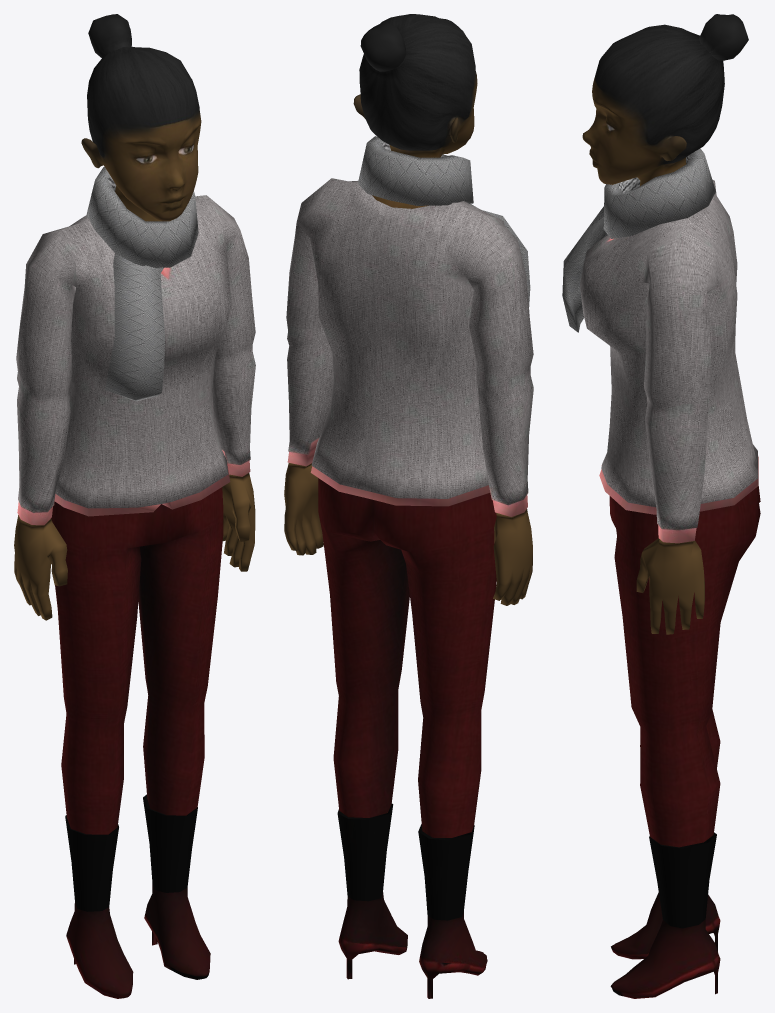
The model's file is NPC8.glb.
The picture shows the model from 3 angles, left to right: view 1: azimuth 30°, elevation 25°; view 2: azimuth 150°, elevation 25°; view 3: azimuth 270°, elevation 25°; orthographic projection. The views are drawn at different scales.
Visible parts, largest first — view 1: F_lBody_BaseMesh.001mesh.004, M_lBody_BaseMesh.006; view 2: F_lBody_BaseMesh.001mesh.004, M_lBody_BaseMesh.006; view 3: F_lBody_BaseMesh.001mesh.004, M_lBody_BaseMesh.006.
Part boxes in pixels (<box>): F_lBody_BaseMesh.001mesh.004: <box>14,14,255,998</box>; M_lBody_BaseMesh.006: <box>86,166,198,401</box>; F_lBody_BaseMesh.001mesh.004: <box>284,14,533,998</box>; M_lBody_BaseMesh.006: <box>358,136,530,306</box>; F_lBody_BaseMesh.001mesh.004: <box>580,14,760,998</box>; M_lBody_BaseMesh.006: <box>562,148,715,332</box>.
Size of what is drawn, in the model's own units: 0.4791 by 1.86 by 0.3491.
3 materials, 3 textured.
